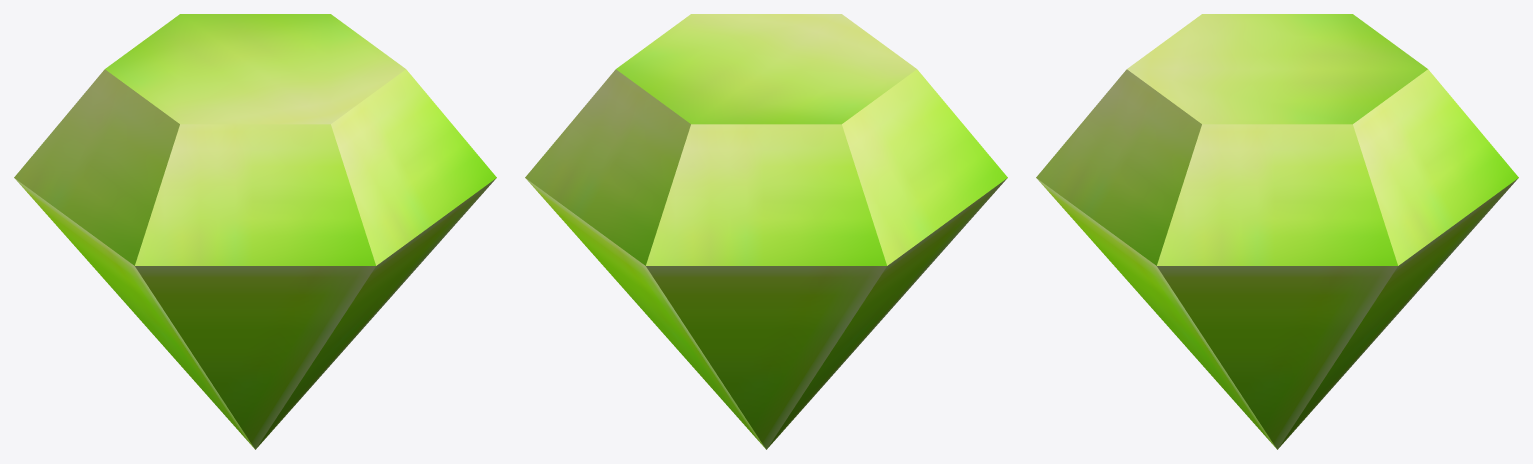
The model's file is Diamond.fbx.
The picture shows the model from 3 angles, left to right: view 1: azimuth 30°, elevation 25°; view 2: azimuth 150°, elevation 25°; view 3: azimuth 270°, elevation 25°; orthographic projection.
Parts seen in each view (by area): view 1: Diamond_Green; view 2: Diamond_Green; view 3: Diamond_Green.
Part boxes in pixels (bbox=[...]): Diamond_Green: bbox=[14, 14, 496, 449]; Diamond_Green: bbox=[525, 14, 1007, 449]; Diamond_Green: bbox=[1036, 14, 1518, 449].
Size of the model in its own units: 14.42 by 14.49 by 16.65.
